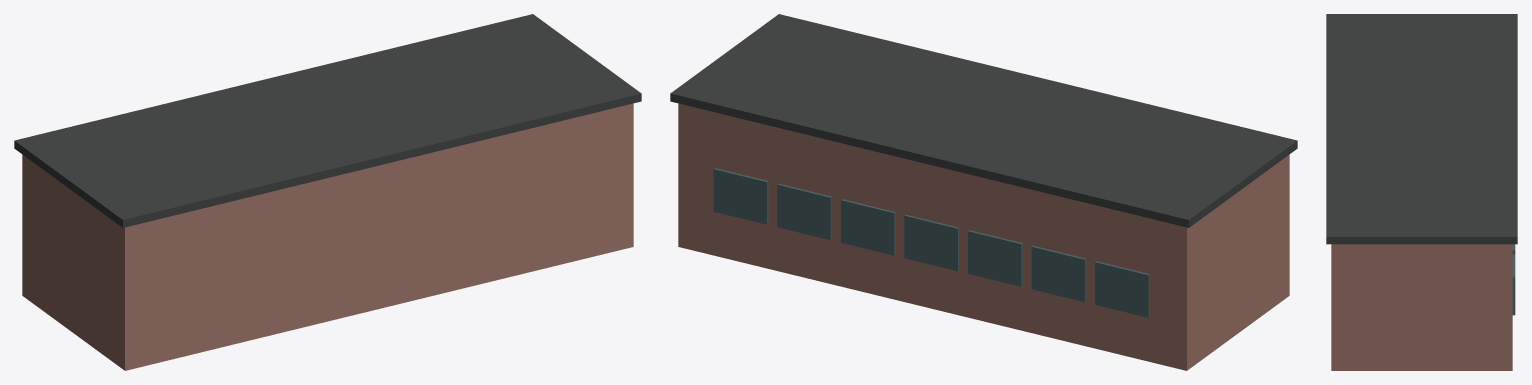
The model's file is motel_01.glb.
The picture shows the model from 3 angles, left to right: view 1: azimuth 30°, elevation 25°; view 2: azimuth 150°, elevation 25°; view 3: azimuth 270°, elevation 25°; orthographic projection. The views are drawn at different scales.
Bounding box in the file's own units: 20.4 × 5.8 × 7.4.
